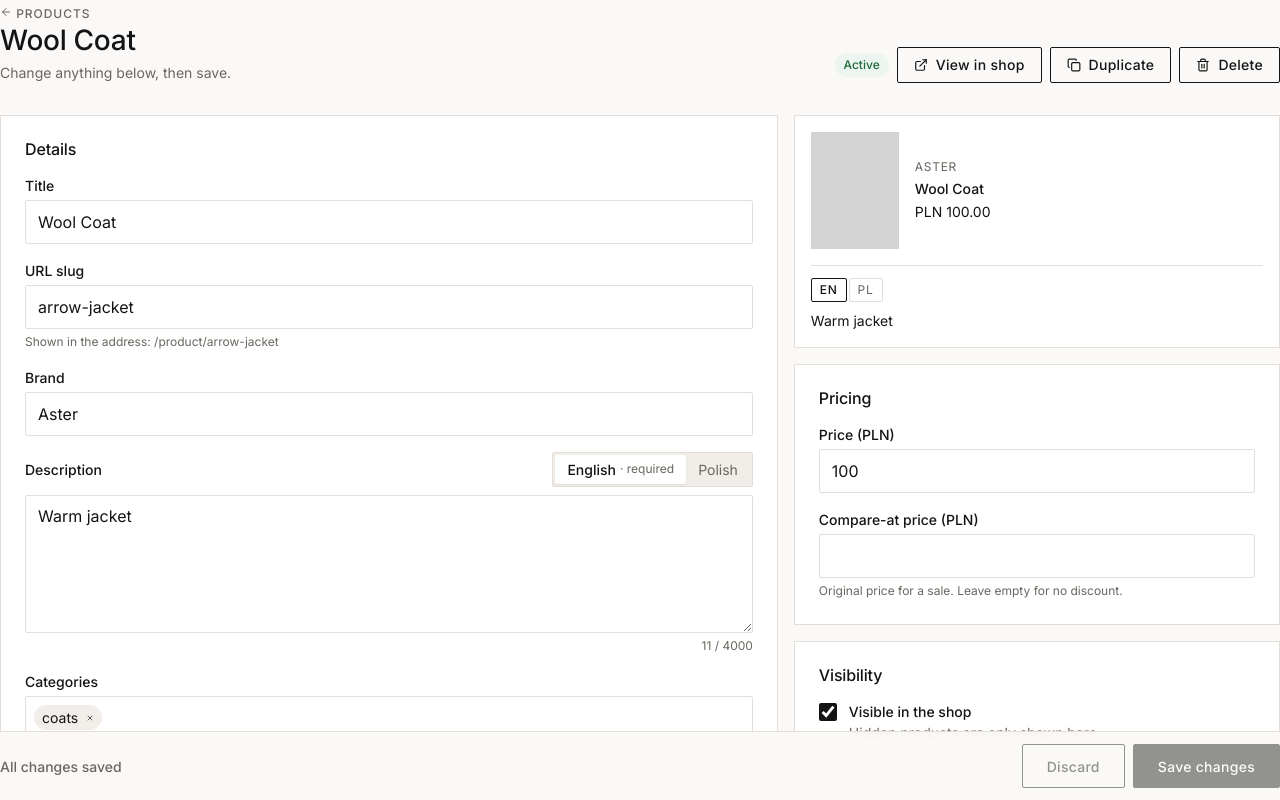
Test: EditProduct › asks before deleting
Click the button "Delete". click: {"x": 1230, "y": 65}
box: [1179, 47, 1279, 83]
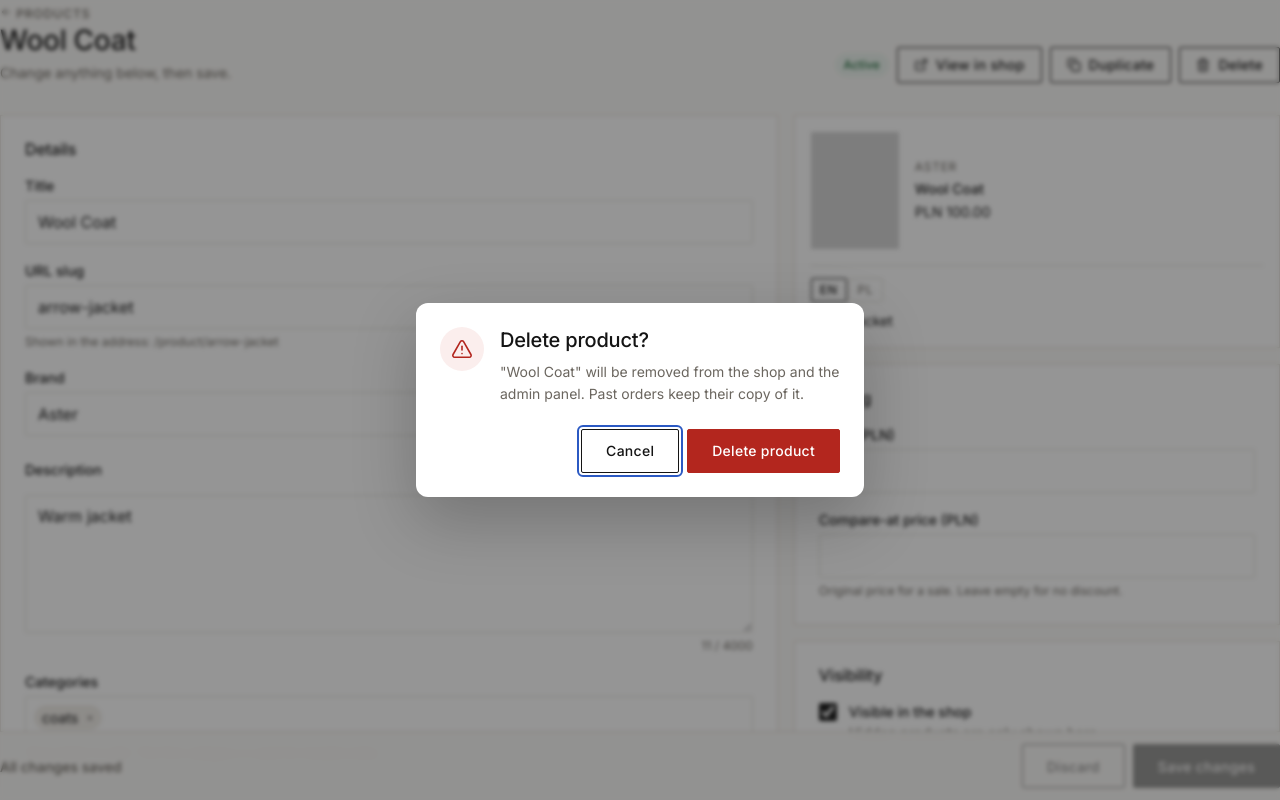
Click the button "Cancel". click: {"x": 630, "y": 451}
box: [581, 429, 679, 473]
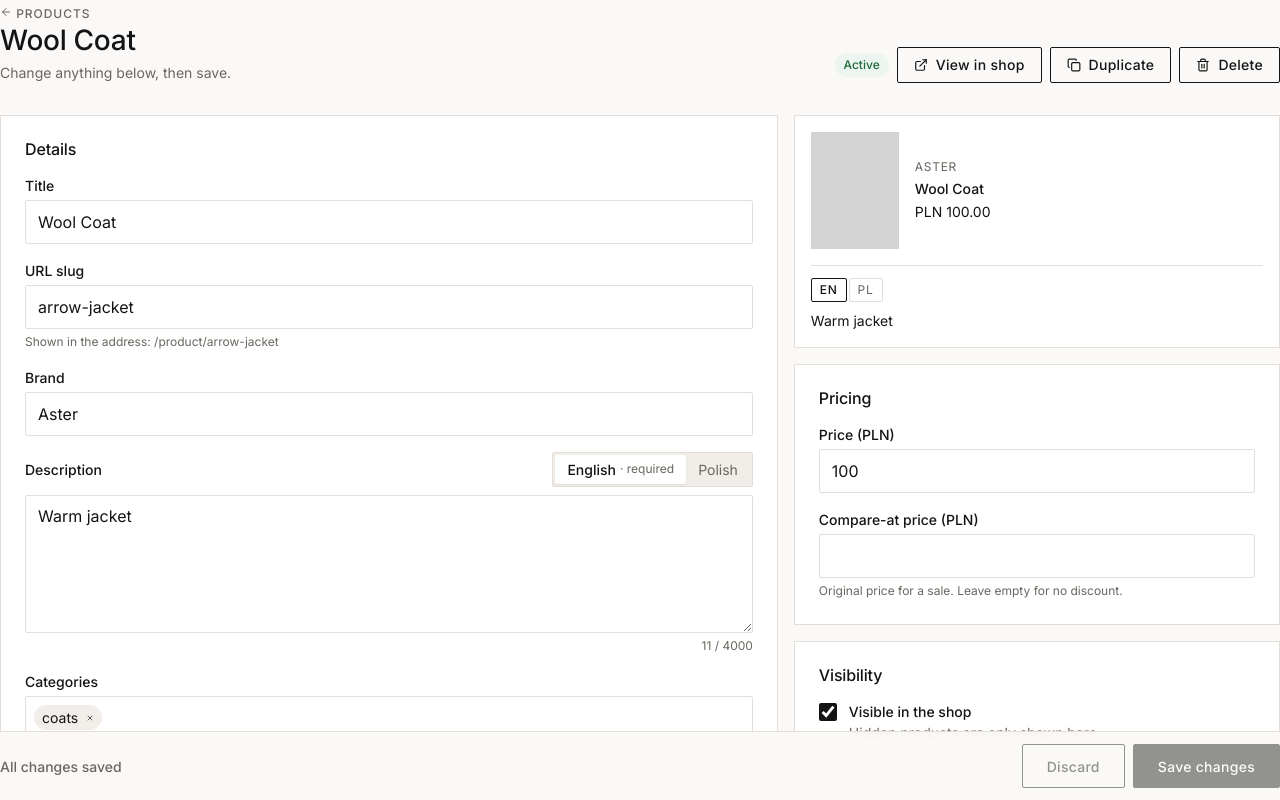
Click the button "Delete". click: {"x": 1230, "y": 65}
box: [1179, 47, 1279, 83]
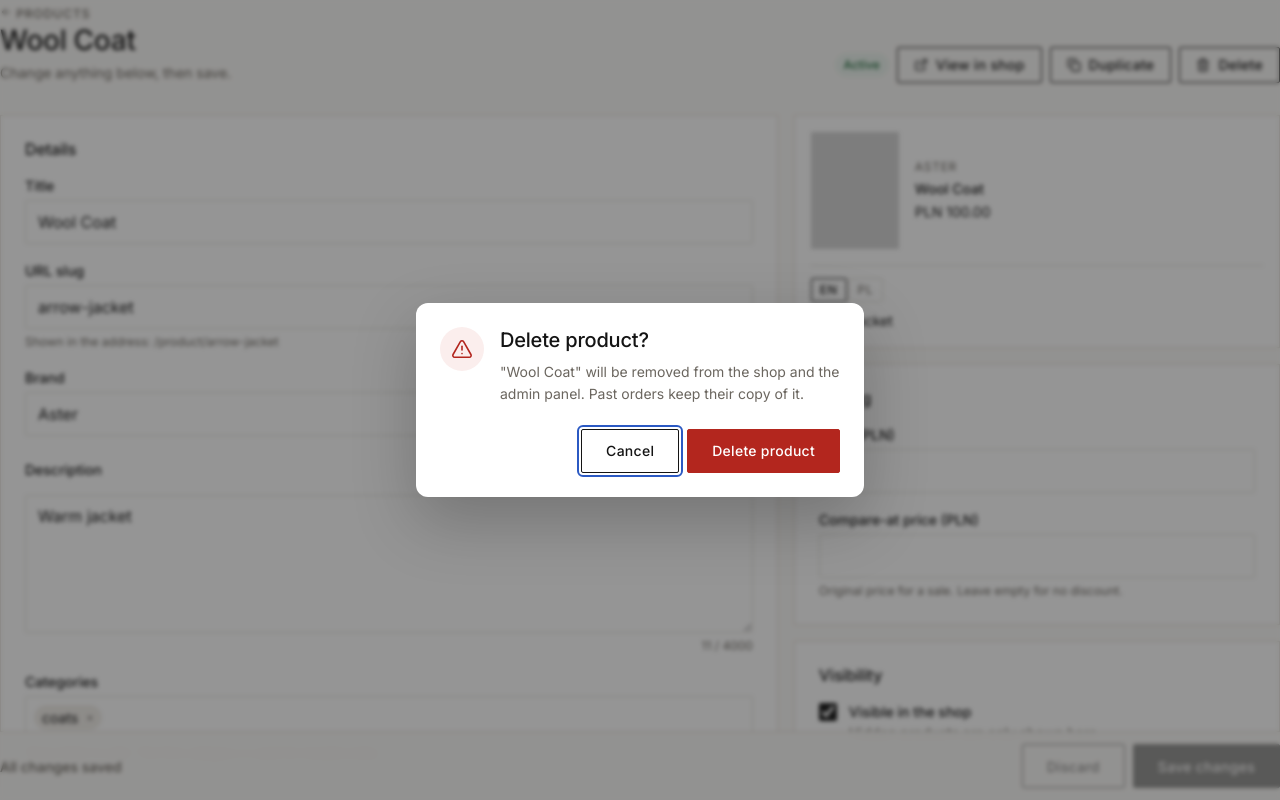
Click the button "Delete product". click: {"x": 764, "y": 451}
box: [687, 429, 840, 473]
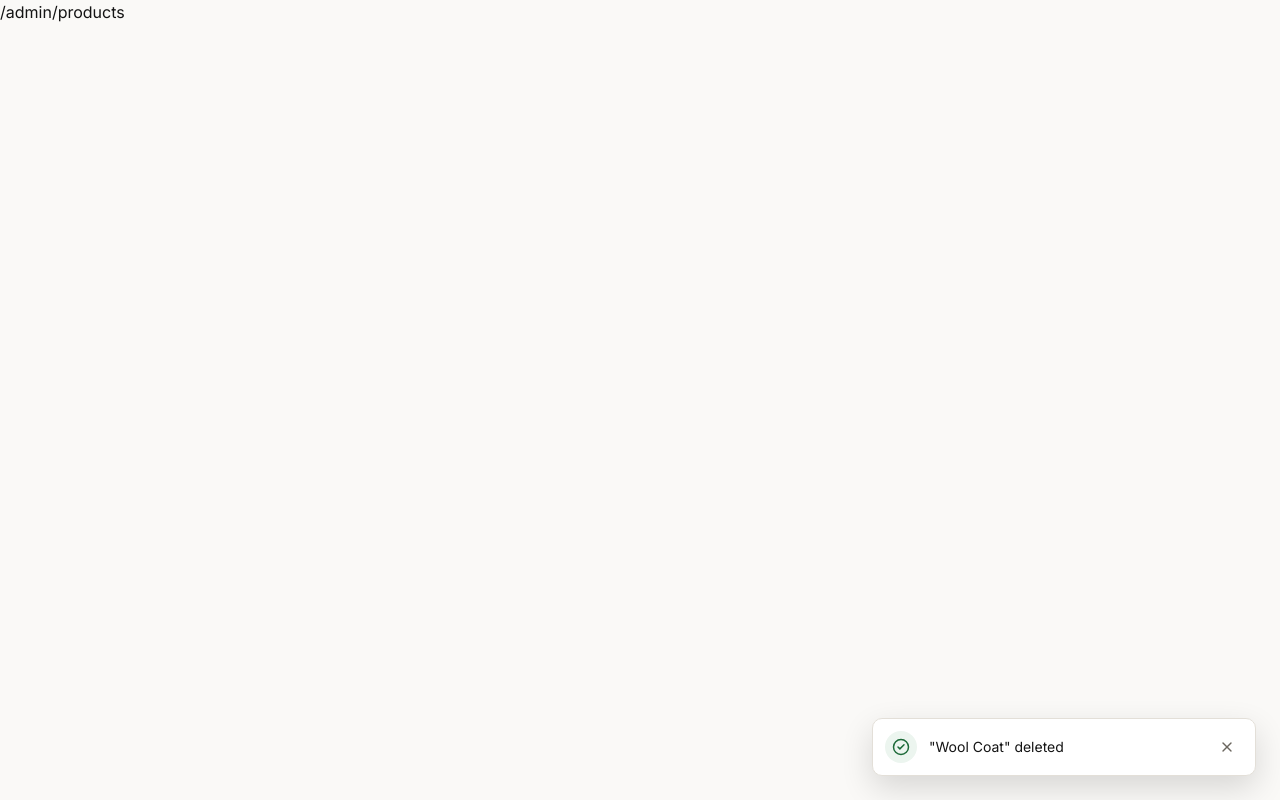
Now the text with test id "path" reads "/admin/products", box [0, 2, 125, 22]
